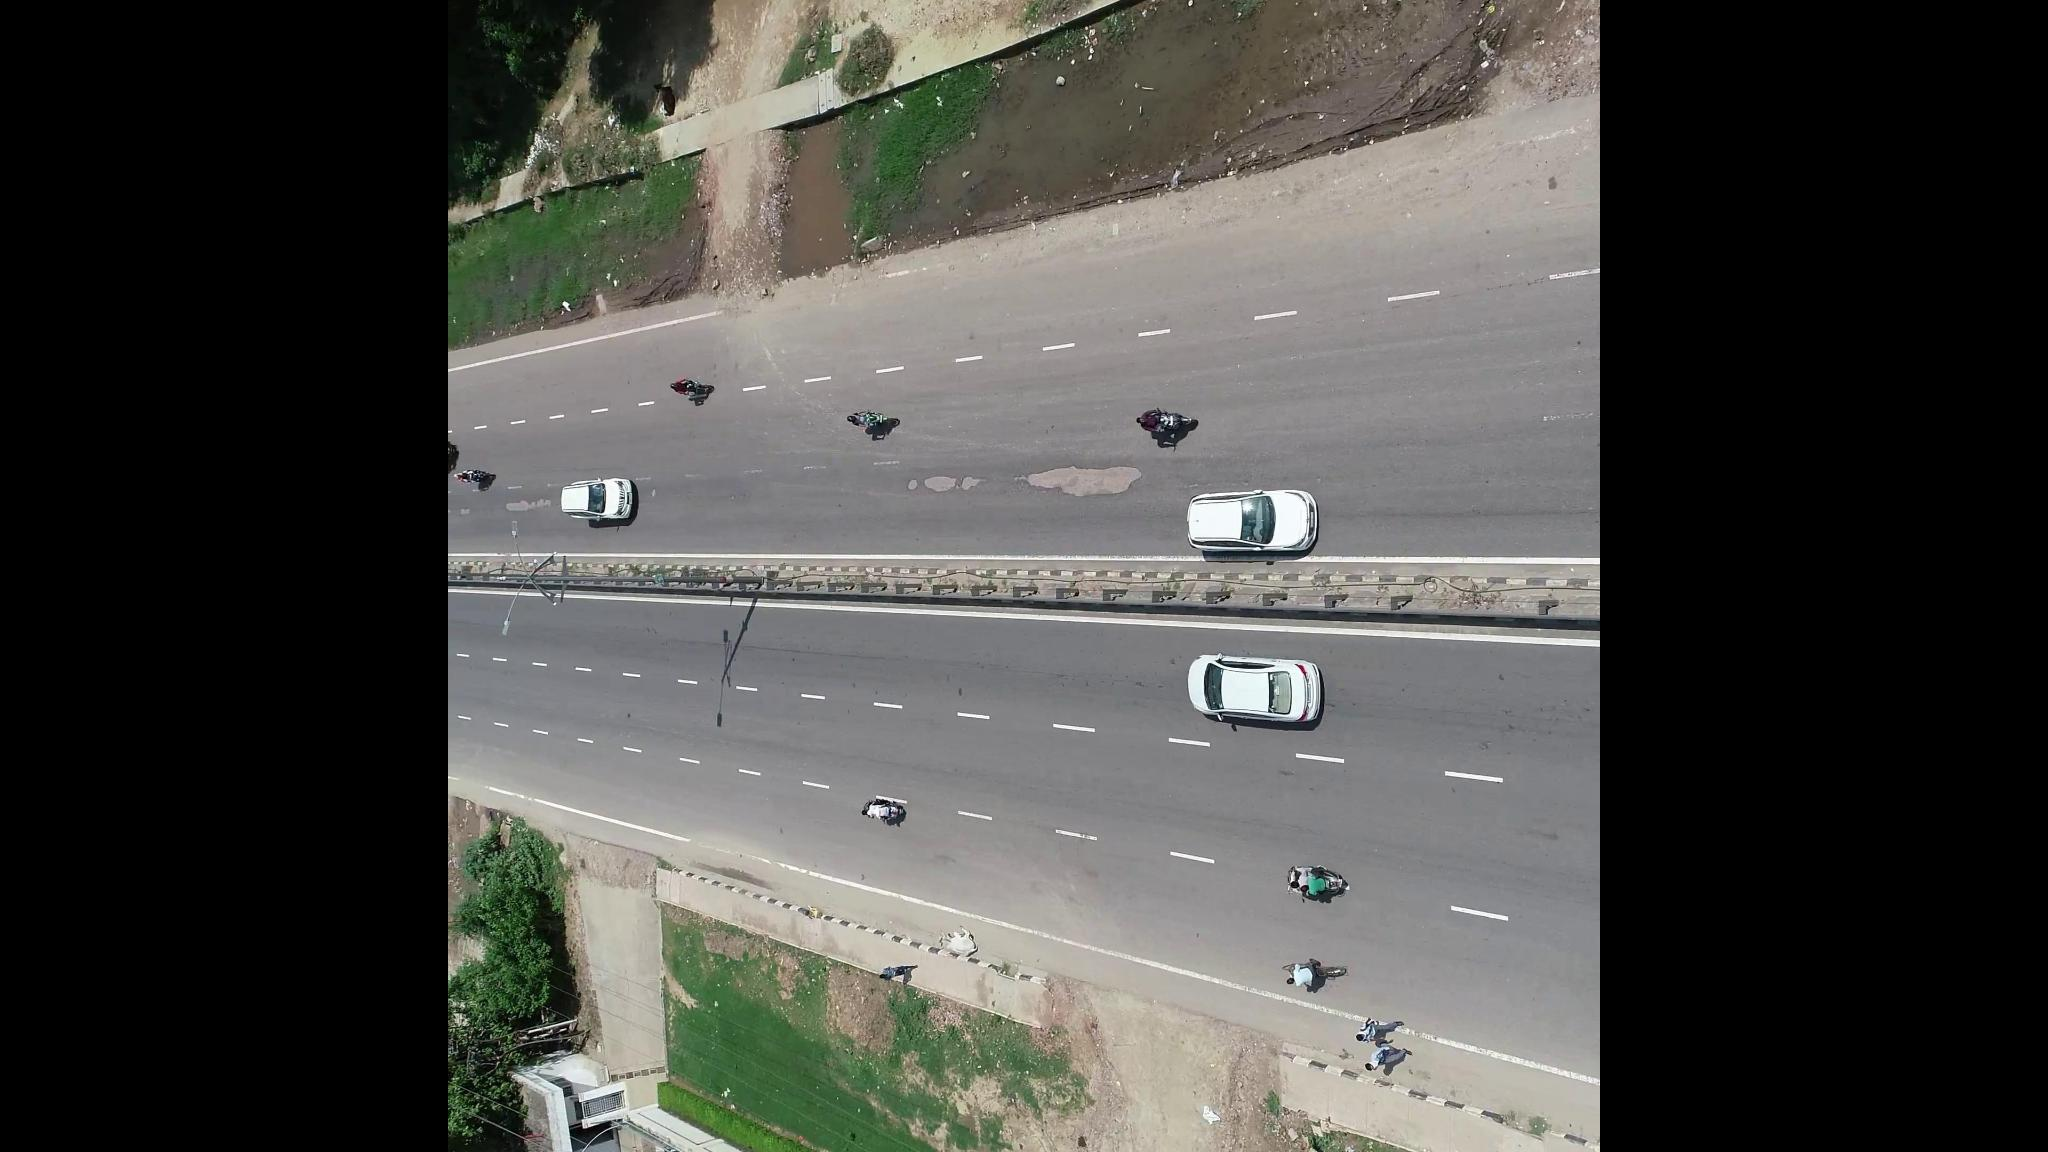Potholes: (1011, 457, 1151, 511), (896, 459, 992, 518)
